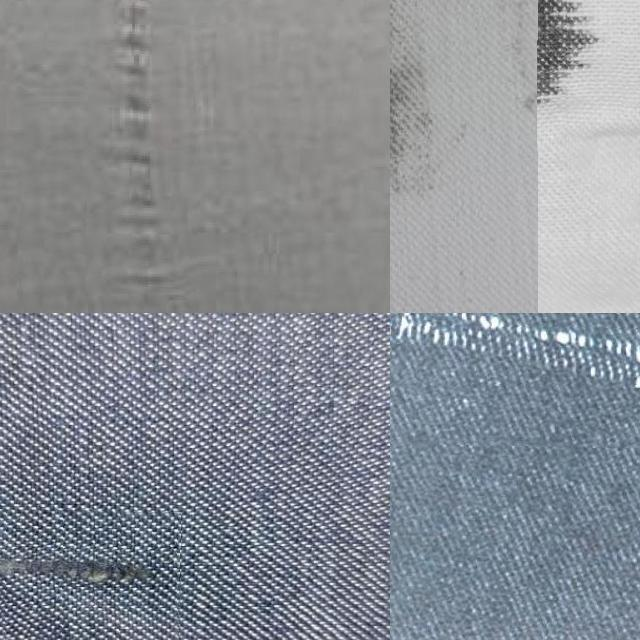Hole: (390, 0, 466, 228), (538, 0, 640, 153)
Thread_other: (20, 0, 204, 313), (390, 313, 640, 448), (0, 509, 180, 640)
